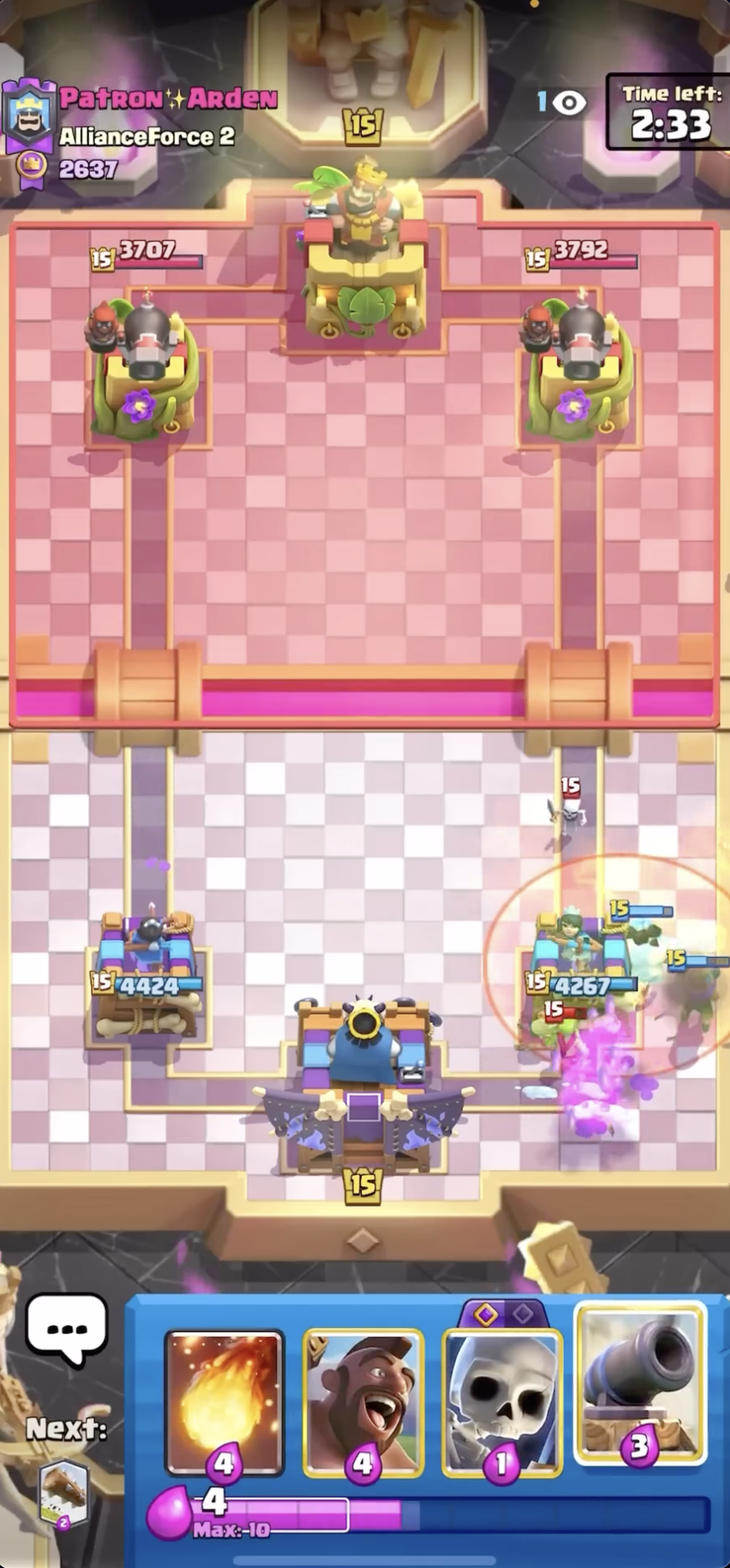skeleton: (539, 770, 599, 844)
